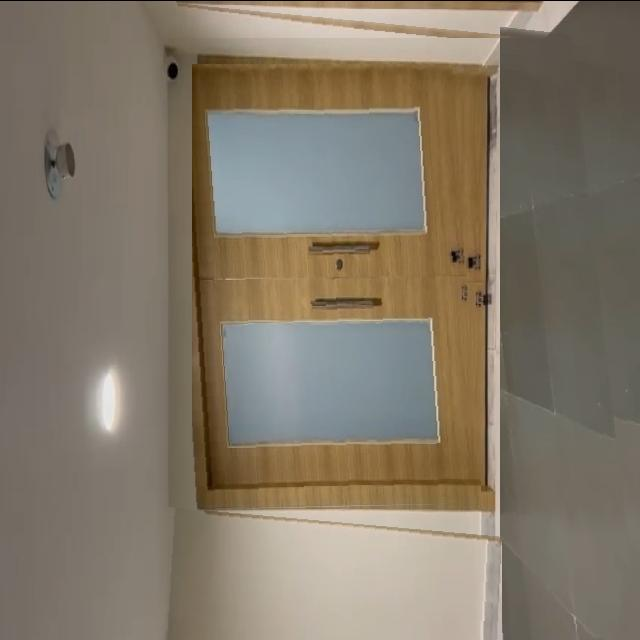door: (192, 63, 482, 509)
floor: (500, 18, 640, 637)
wall: (160, 506, 502, 640), (150, 0, 538, 37)
